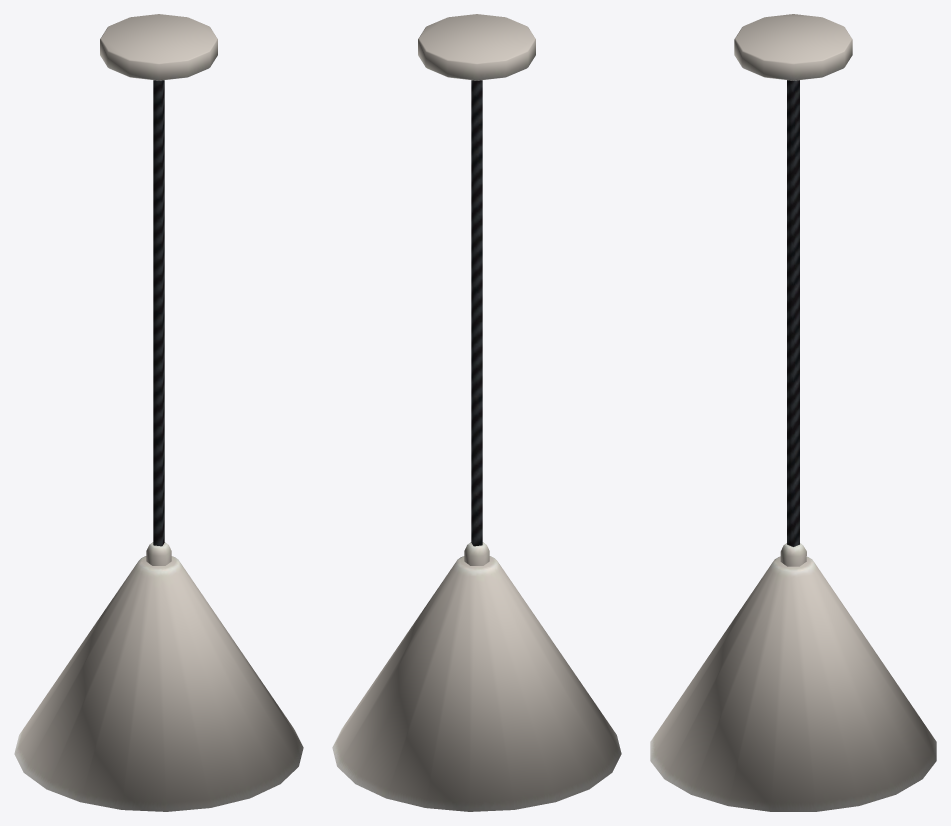
The model's file is clubhouse-pendant.glb.
3 views of the same model, side by side, from view 1: azimuth 30°, elevation 25°; view 2: azimuth 150°, elevation 25°; view 3: azimuth 270°, elevation 25° (orthographic).
Visible parts, largest first — view 1: Scene; view 2: Scene; view 3: Scene.
Part boxes in pixels (bbox=[...]): Scene: bbox=[14, 14, 303, 811]; Scene: bbox=[332, 14, 621, 811]; Scene: bbox=[650, 14, 936, 811].
Size of the model in its own units: 5.56 by 15.29 by 5.56.
1 material, 1 textured.
